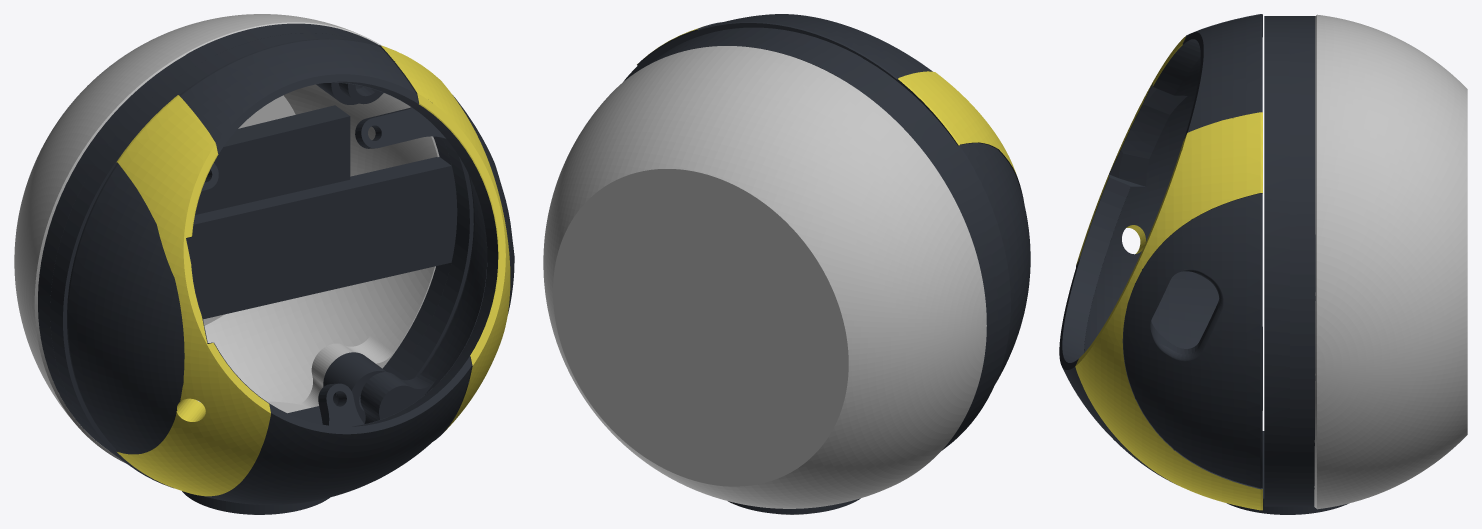
The model's file is poketama-ultra-battery.glb.
3 views of the same model, side by side, from view 1: azimuth 30°, elevation 25°; view 2: azimuth 150°, elevation 25°; view 3: azimuth 270°, elevation 25° (orthographic).
Bounding box in the file's own units: 1.94 × 2 × 1.58.
